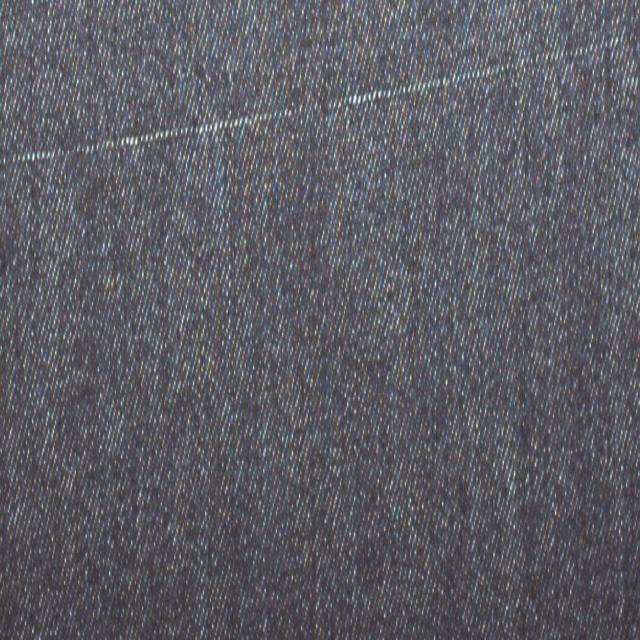Line: (3, 28, 638, 173)
